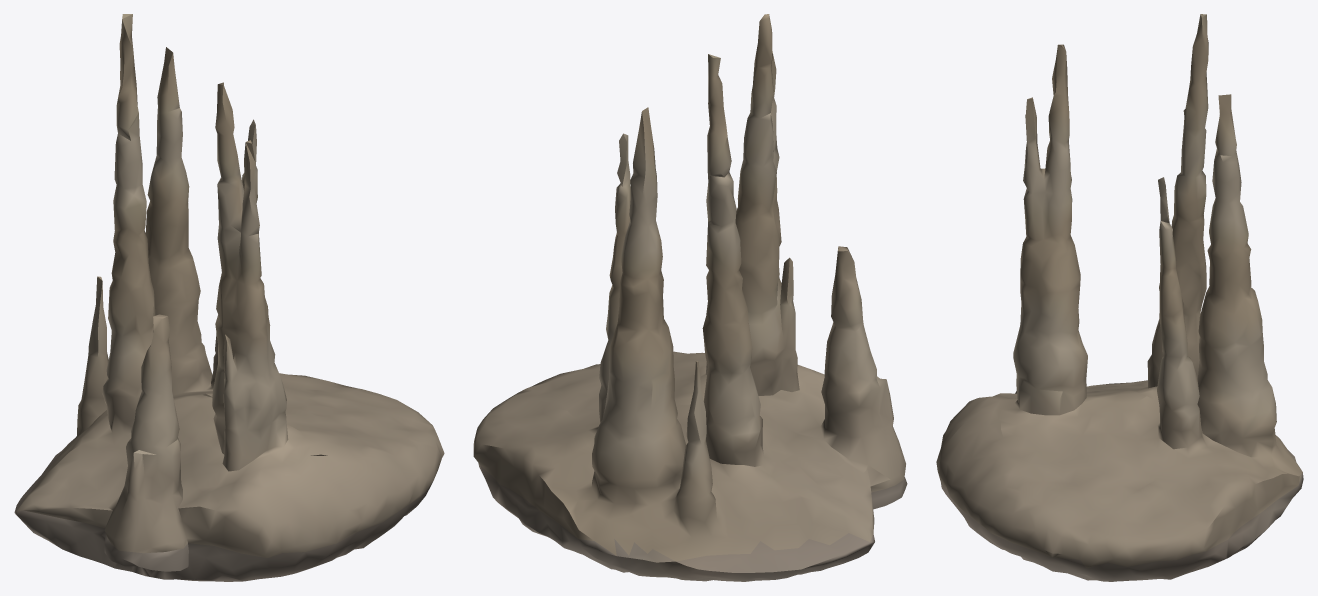
File: stalagmite_cluster_a.86978585.glb
3 renders of one model, left to right at view 1: azimuth 30°, elevation 25°; view 2: azimuth 150°, elevation 25°; view 3: azimuth 270°, elevation 25°, orthographic. The views are drawn at different scales.
Visible parts, largest first — view 1: stalagmite_cluster_a; view 2: stalagmite_cluster_a; view 3: stalagmite_cluster_a.
Boxes of the visible parts, x1,y1,x2,y2 form: stalagmite_cluster_a: (14,14,444,581); stalagmite_cluster_a: (473,14,907,581); stalagmite_cluster_a: (936,14,1303,581).
Size of the model in its own units: 1.06 by 1.34 by 0.906.
